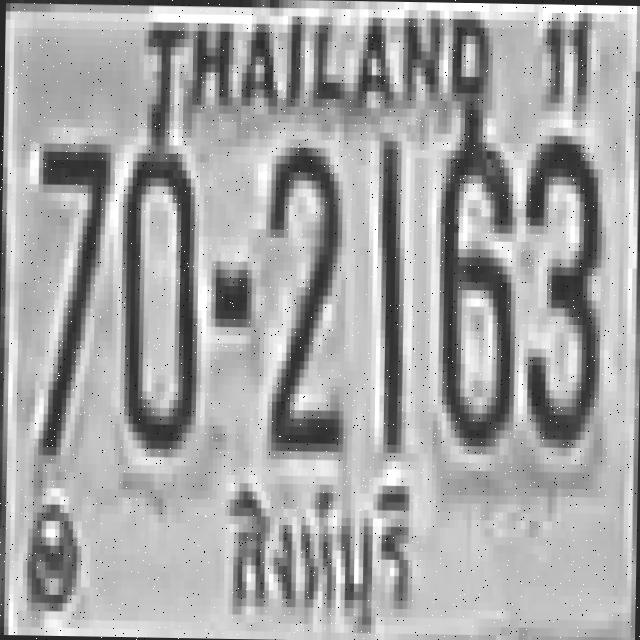0: (116, 140, 198, 445)
1: (371, 128, 404, 448)
2: (264, 138, 341, 444)
3: (517, 126, 598, 440)
6: (432, 125, 513, 438)
7: (34, 138, 106, 452)
SingBuri: (209, 460, 421, 640)
